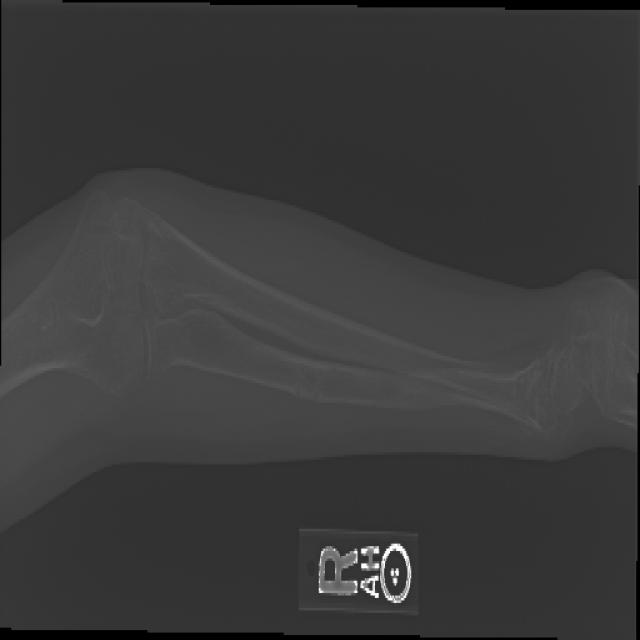forearm fracture: (403, 331, 475, 433), (283, 338, 347, 443)
